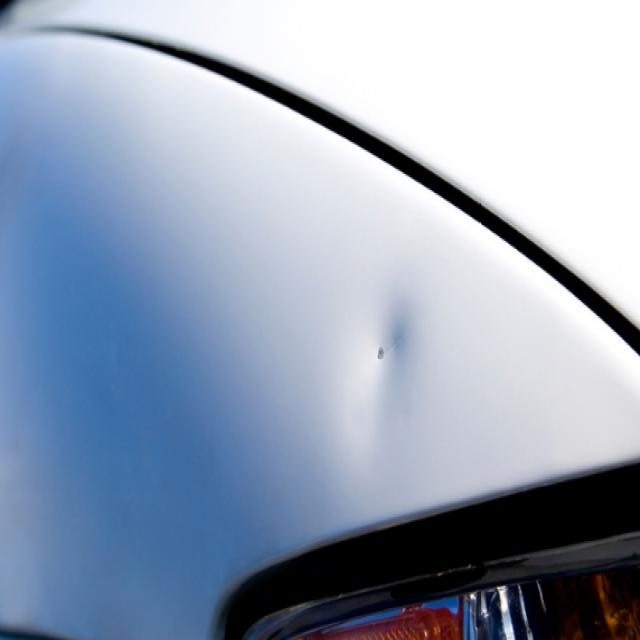dents: (336, 277, 419, 426)
